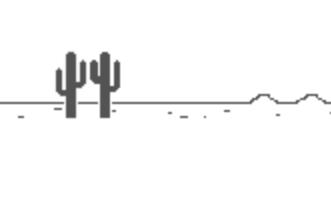dead-t-rex: (51, 46, 125, 122)
